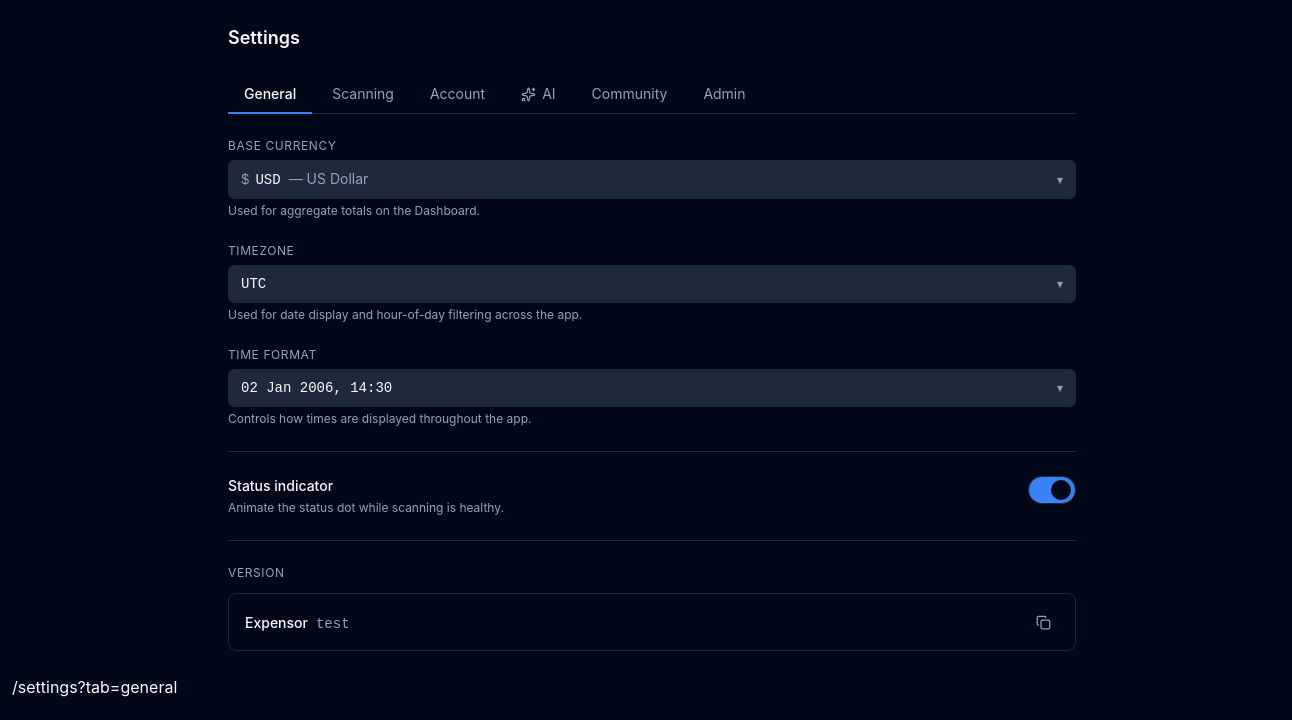
Test case: Settings › aligns settings row actions to the right of their explanatory text
Expected: the heading "Status indicator" is shown, [228, 477, 333, 494]
Click the button "Scanning".
click(363, 95)  # box [316, 76, 410, 114]
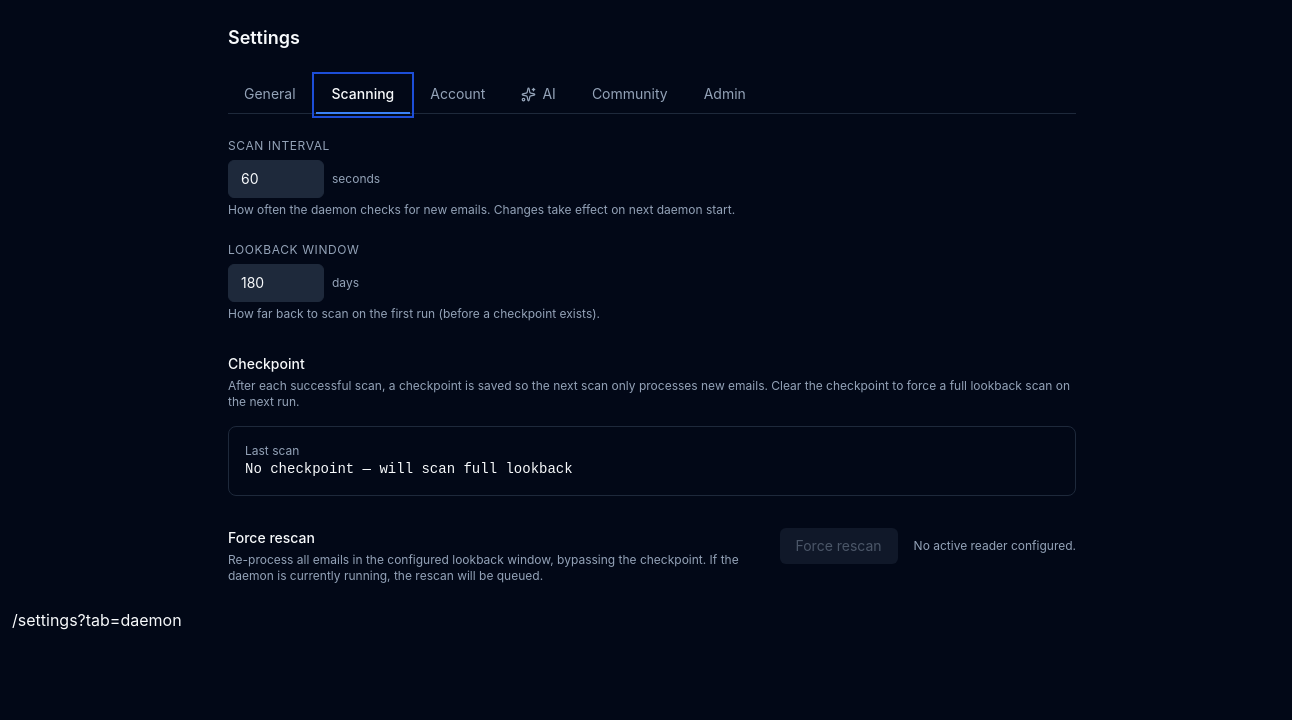
Expected: the heading "Force rescan" is shown, [228, 529, 315, 546]
Click the button "Community".
click(630, 95)  # box [576, 76, 684, 114]
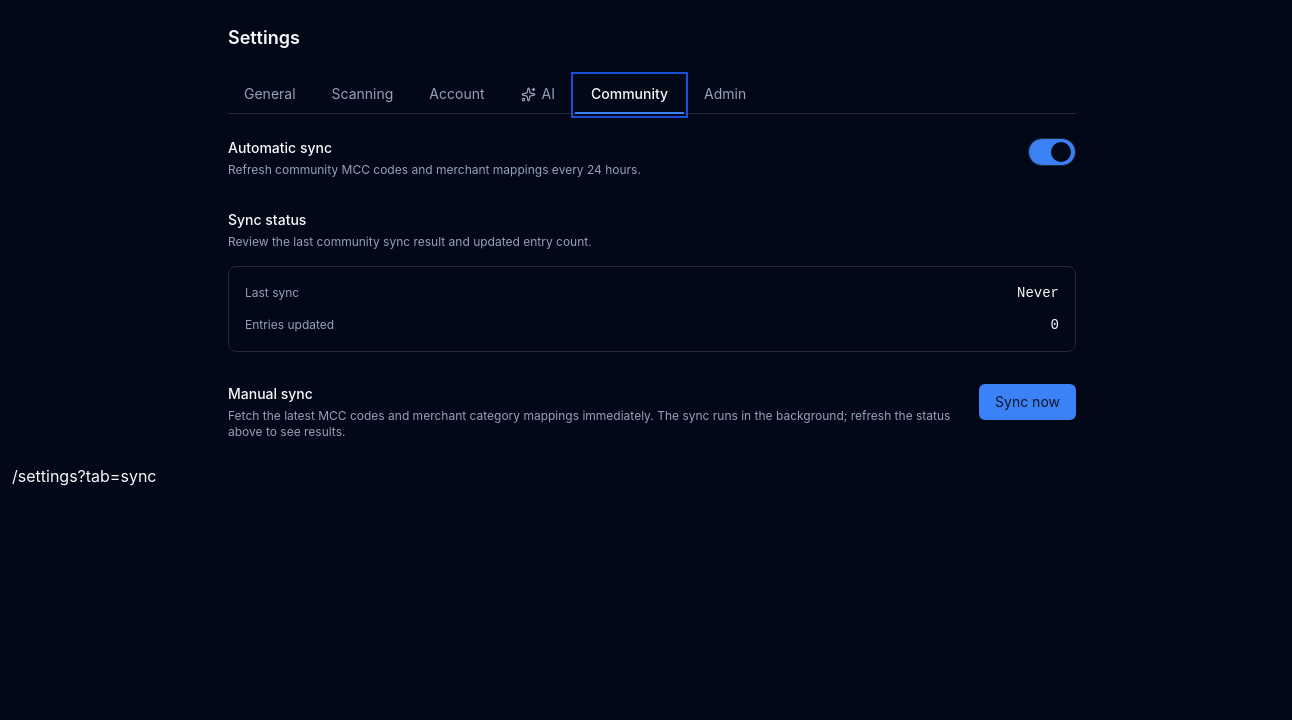
Expected: the heading "Automatic sync" is shown, [228, 139, 332, 156]
